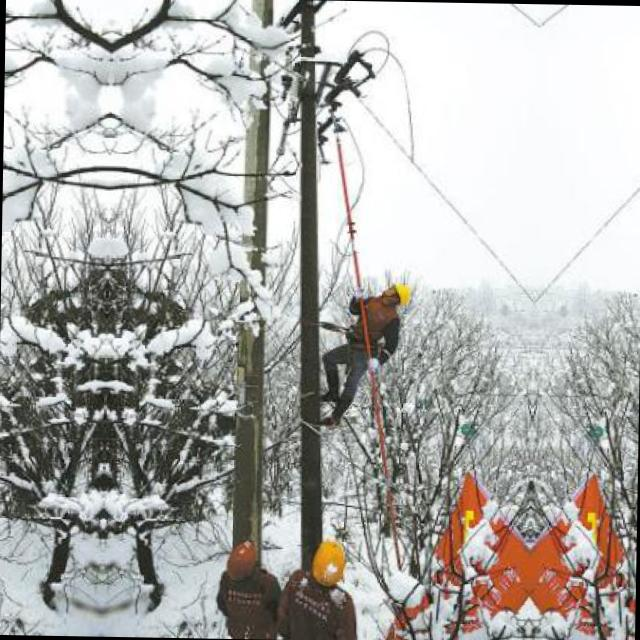helmet: (308, 532, 348, 591), (221, 536, 260, 575), (378, 283, 414, 308)
